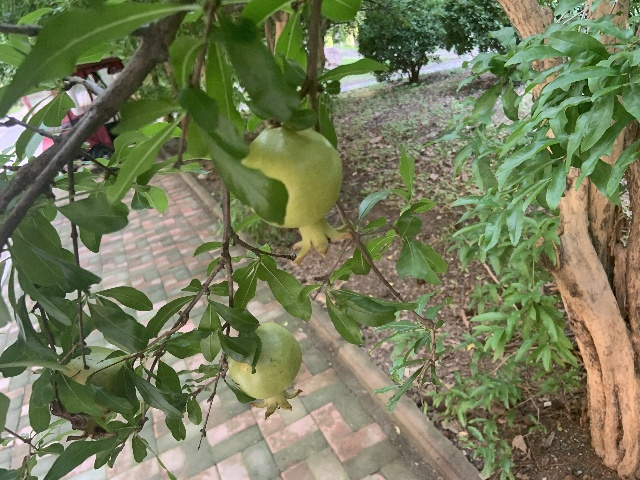mid-growth: (242, 126, 353, 264), (228, 322, 303, 420), (62, 345, 126, 442)
